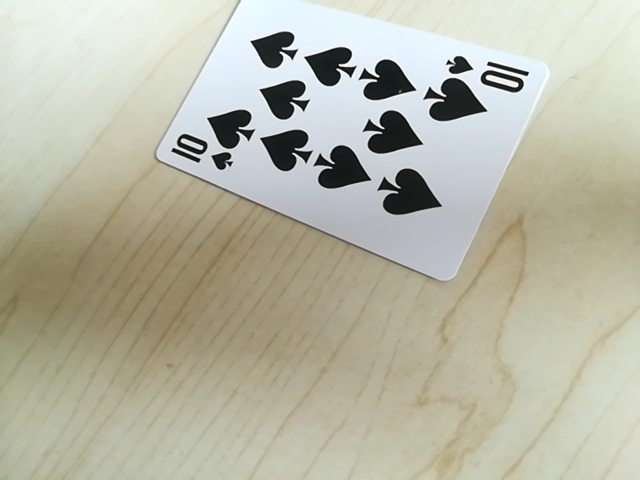ht 10: (440, 53, 541, 93), (164, 136, 234, 174)
